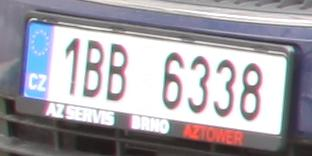1: (64, 38, 80, 94)
3: (189, 55, 208, 113), (215, 59, 234, 117)
6: (163, 52, 183, 109)
8: (241, 63, 262, 121)
B: (107, 42, 126, 101), (84, 40, 101, 96)
